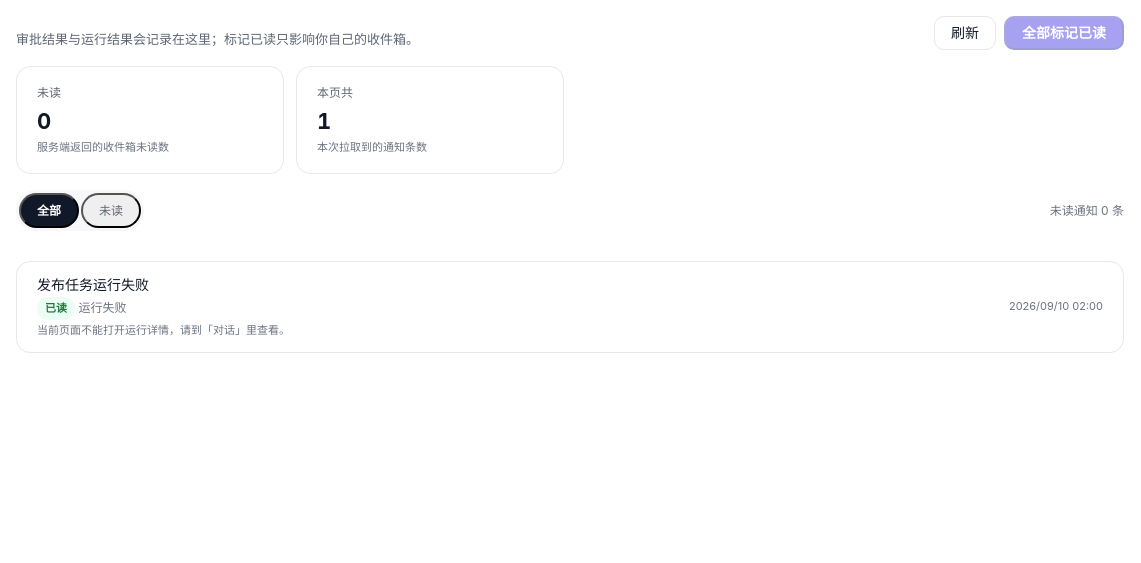
Scenario: InboxPage › shows the unread empty state when the loaded list has nothing unread
Expected: the text "发布任务运行失败" is shown, [37,276,149,293]
Click the tab "未读" at (111, 211), box [81,193,141,228]
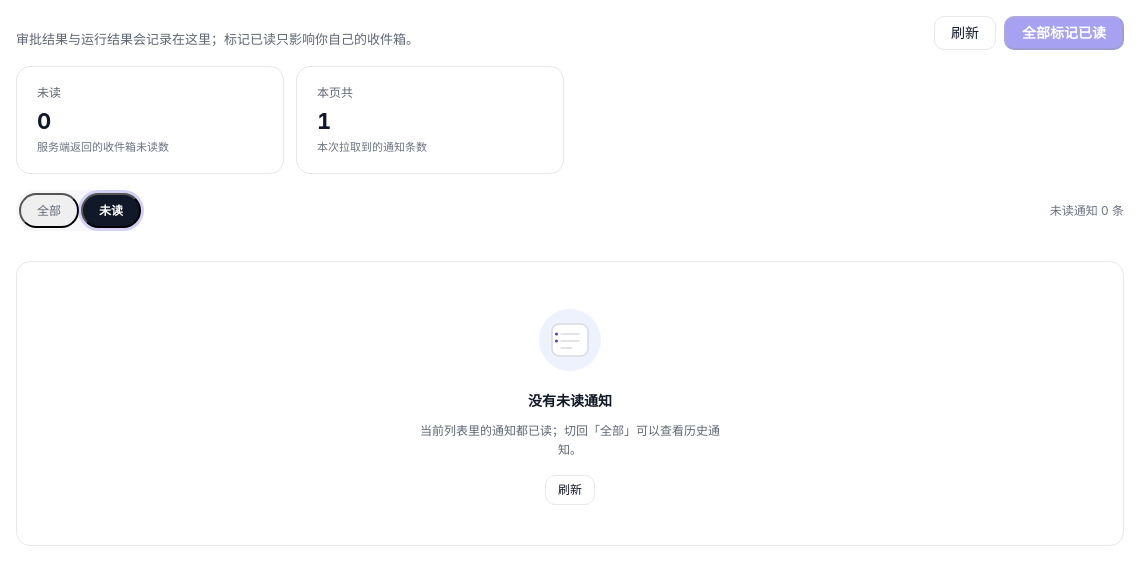
Expected: the heading "没有未读通知" is shown, [528,390,612,413]
